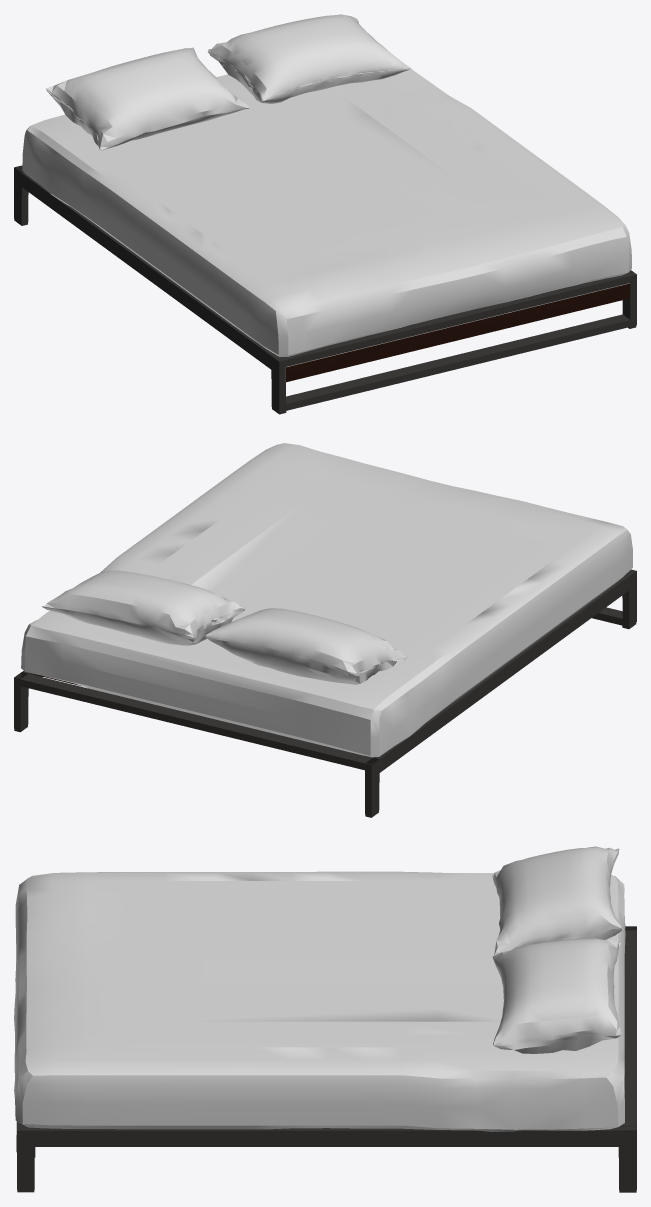
3 views of the same model, one above another, from view 1: azimuth 30°, elevation 25°; view 2: azimuth 150°, elevation 25°; view 3: azimuth 270°, elevation 25° (orthographic). The views are drawn at different scales.
Visible parts, largest first — view 1: C-skp3161; view 2: C-skp3161; view 3: C-skp3161.
Boxes of the visible parts, bbox=[...] form: C-skp3161: bbox=[14, 14, 636, 414]; C-skp3161: bbox=[14, 443, 636, 817]; C-skp3161: bbox=[14, 846, 636, 1192].
Bounding box in the file's own units: 1.62 × 0.6468 × 2.07.
Materials: 3 (1 with a texture image).
